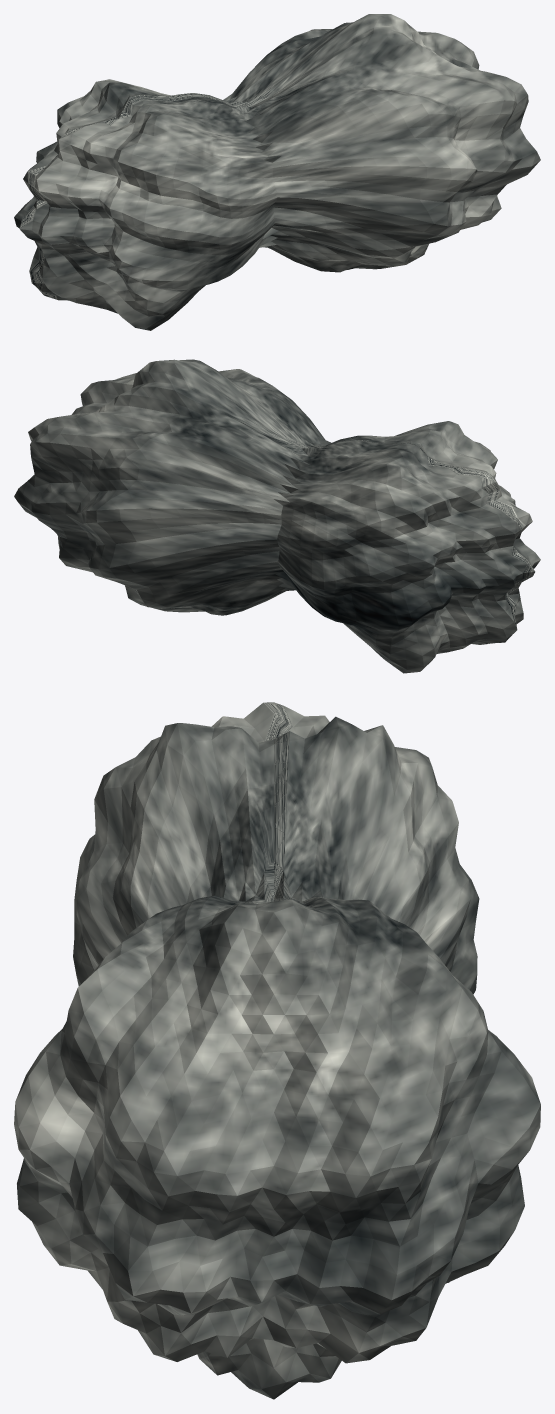
File: bilobed.glb
3 views of the same model, one above another, from view 1: azimuth 30°, elevation 25°; view 2: azimuth 150°, elevation 25°; view 3: azimuth 270°, elevation 25° (orthographic). The views are drawn at different scales.
Visible parts, largest first — view 1: rock; view 2: rock; view 3: rock.
Boxes of the visible parts, x1,y1,x2,y2 form: rock: (14,14,540,330); rock: (14,359,540,673); rock: (14,702,540,1399).
Size of the model in its own units: 27.57 by 13.41 by 13.79.
1 material, 1 textured.
